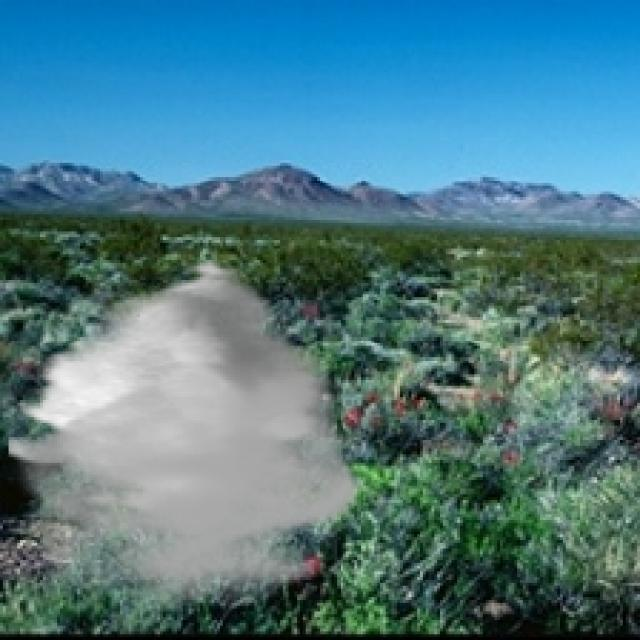smoke: (8, 257, 366, 612)
